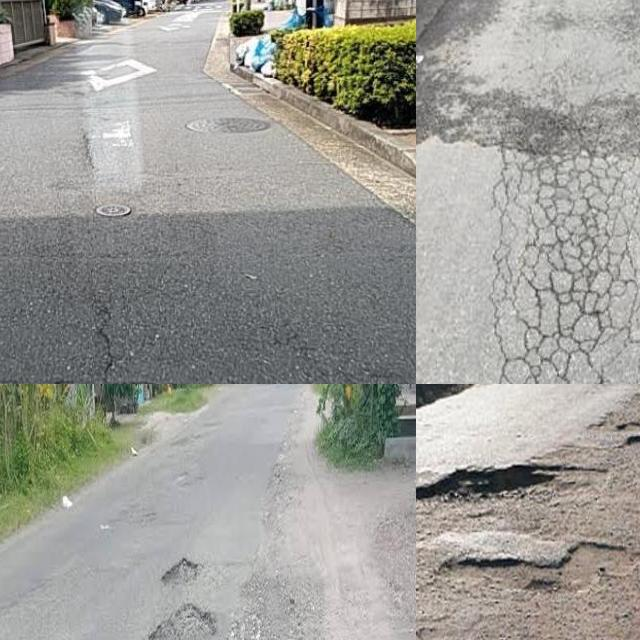Lubang: (416, 466, 575, 526), (150, 612, 210, 640), (158, 558, 202, 584)
Melintang: (0, 364, 416, 384)
Retak Buaya: (482, 150, 640, 384)
